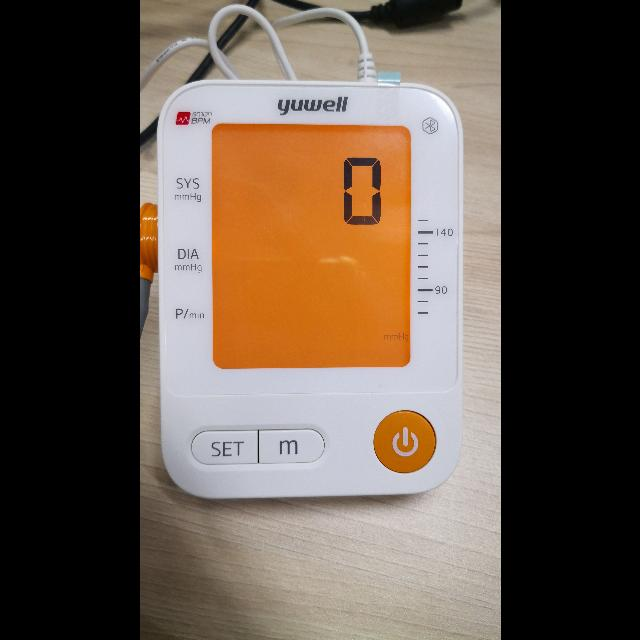Blood-Pressure-Monitor: (157, 80, 461, 498)
